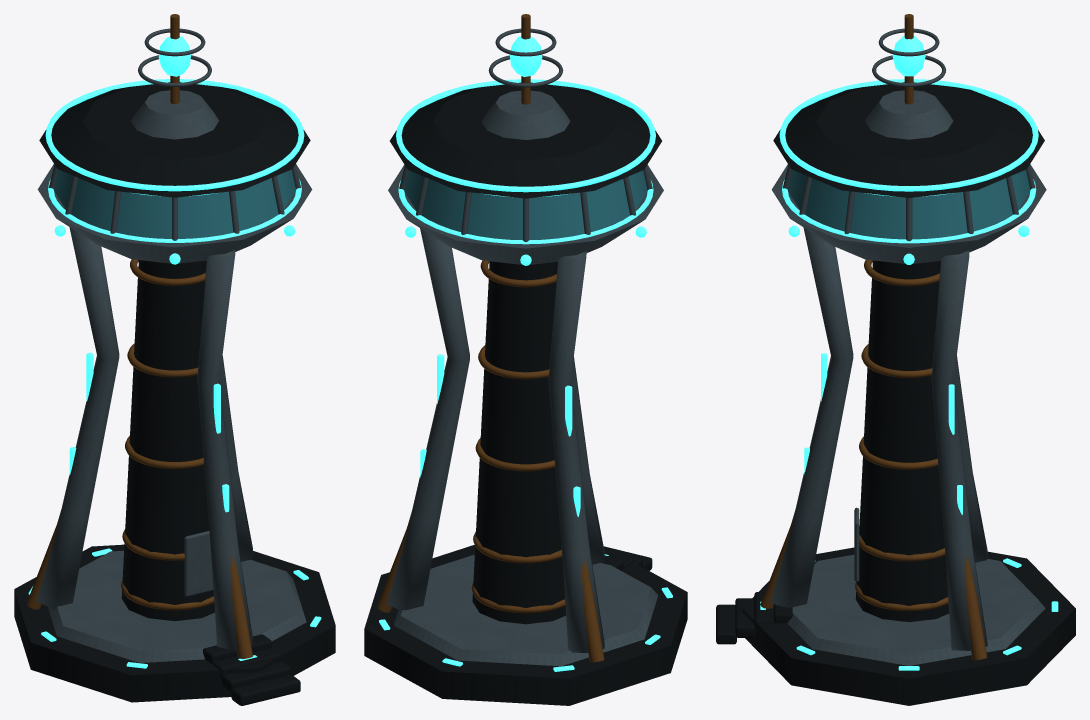
Rendered from 05_alien_watchtower.glb.
The picture shows the model from 3 angles, left to right: view 1: azimuth 30°, elevation 25°; view 2: azimuth 150°, elevation 25°; view 3: azimuth 270°, elevation 25°; orthographic projection.
Parts seen in each view (by area): view 1: 05_alien_watchtower | Tower | graphite armor, 05_alien_watchtower | Tower | brushed titanium, Alien | observation cabin, 05_alien_watchtower | Tower | cyan luminescent ceramic, 05_alien_watchtower | Tower | oxidized bronze; view 2: 05_alien_watchtower | Tower | graphite armor, 05_alien_watchtower | Tower | brushed titanium, Alien | observation cabin, 05_alien_watchtower | Tower | cyan luminescent ceramic, 05_alien_watchtower | Tower | oxidized bronze; view 3: 05_alien_watchtower | Tower | graphite armor, 05_alien_watchtower | Tower | brushed titanium, Alien | observation cabin, 05_alien_watchtower | Tower | cyan luminescent ceramic, 05_alien_watchtower | Tower | oxidized bronze.
Part boxes in pixels (<box>): 05_alien_watchtower | Tower | graphite armor: <box>14,82,335,705</box>; 05_alien_watchtower | Tower | brushed titanium: <box>36,28,312,662</box>; Alien | observation cabin: <box>54,169,295,238</box>; 05_alien_watchtower | Tower | cyan luminescent ceramic: <box>28,36,321,668</box>; 05_alien_watchtower | Tower | oxidized bronze: <box>26,14,252,658</box>; 05_alien_watchtower | Tower | graphite armor: <box>364,82,687,705</box>; 05_alien_watchtower | Tower | brushed titanium: <box>387,28,663,666</box>; Alien | observation cabin: <box>404,170,647,240</box>; 05_alien_watchtower | Tower | cyan luminescent ceramic: <box>379,36,672,671</box>; 05_alien_watchtower | Tower | oxidized bronze: <box>376,14,604,662</box>; 05_alien_watchtower | Tower | graphite armor: <box>716,82,1075,705</box>; 05_alien_watchtower | Tower | brushed titanium: <box>770,28,1046,665</box>; Alien | observation cabin: <box>788,170,1030,239</box>; 05_alien_watchtower | Tower | cyan luminescent ceramic: <box>760,35,1058,670</box>; 05_alien_watchtower | Tower | oxidized bronze: <box>760,14,987,660</box>.
Bounding box in the file's own units: 4 × 8.2 × 4.32.
5 materials, 3 textured.
